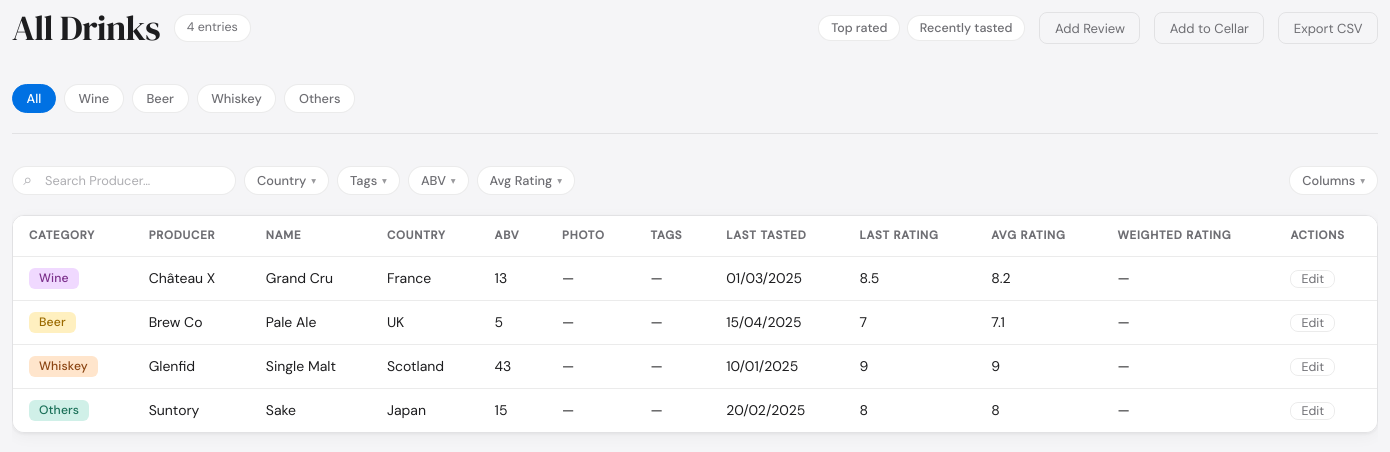
Test: clicking a country cell adds it to the country filter
Expected: the text "Grand Cru" is shown, 250,256 -> 371,300
What coordinates should you click on to do the following:
click the text "France"
I would click on:
 (409, 278)
Its box is 387,269 -> 431,287.
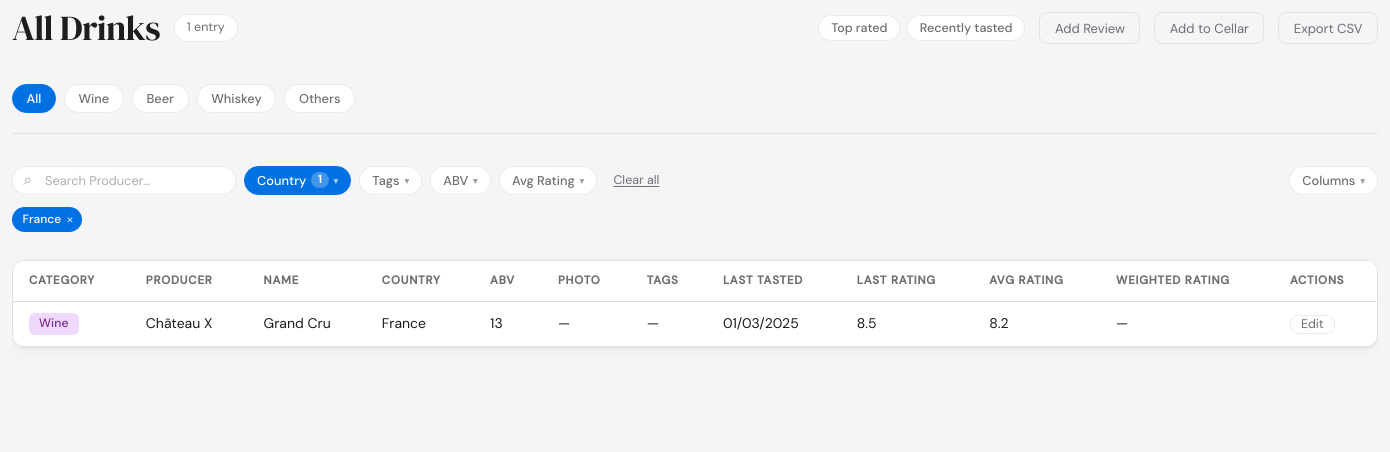
Expected: the text "Grand Cru" is shown, 248,302 -> 366,346
Expected: the text "Pale Ale" is gone
